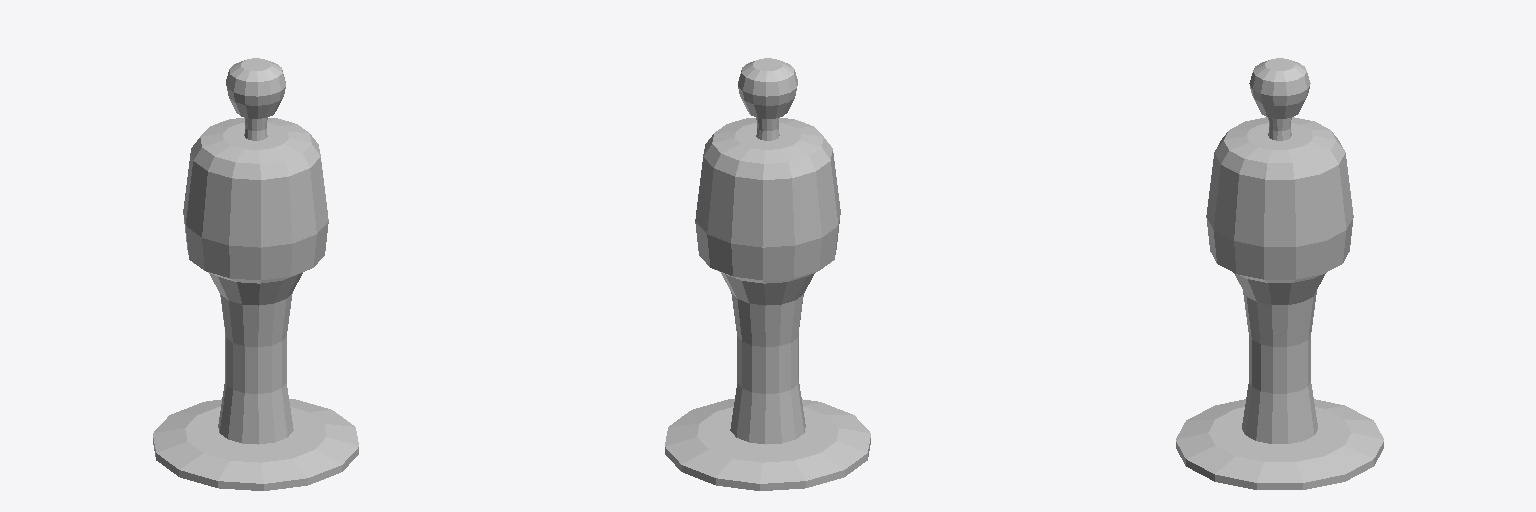
Rendered from human-tall_004.obj.
3 views of the same model, side by side, from view 1: azimuth 30°, elevation 25°; view 2: azimuth 150°, elevation 25°; view 3: azimuth 270°, elevation 25° (orthographic).
Parts seen in each view (by area): view 1: human-tall.004; view 2: human-tall.004; view 3: human-tall.004.
Boxes of the visible parts, box(x1,y1,x2,y2) form: human-tall.004: box(153, 58, 358, 490); human-tall.004: box(665, 58, 870, 490); human-tall.004: box(1176, 58, 1383, 489).
Bounding box in the file's own units: 0.85 × 1.76 × 0.8719.